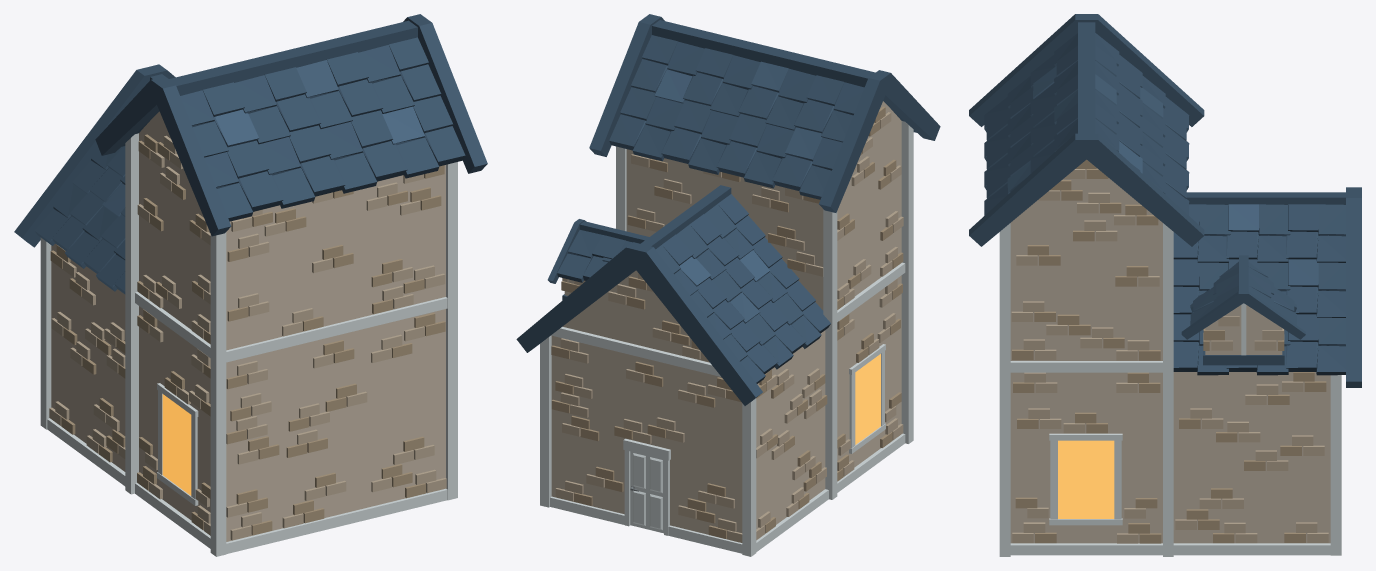
Rendered from SM_House_13.fbx.
3 views of the same model, side by side, from view 1: azimuth 30°, elevation 25°; view 2: azimuth 150°, elevation 25°; view 3: azimuth 270°, elevation 25° (orthographic). The views are drawn at different scales.
Visible parts, largest first — view 1: SM_House_13_LOD0; view 2: SM_House_13_LOD0; view 3: SM_House_13_LOD0.
Part boxes in pixels (x1=…): SM_House_13_LOD0: x1=14, y1=14, x2=487, y2=556; SM_House_13_LOD0: x1=516, y1=14, x2=940, y2=556; SM_House_13_LOD0: x1=969, y1=14, x2=1361, y2=556.
Size of the model in its own units: 716 by 945 by 1125.
1 material, 1 textured.
